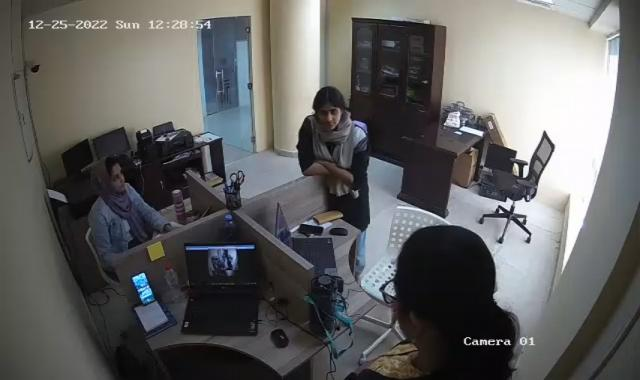no_hairnet: (385, 213, 520, 370), (313, 84, 343, 133), (92, 159, 127, 195)
